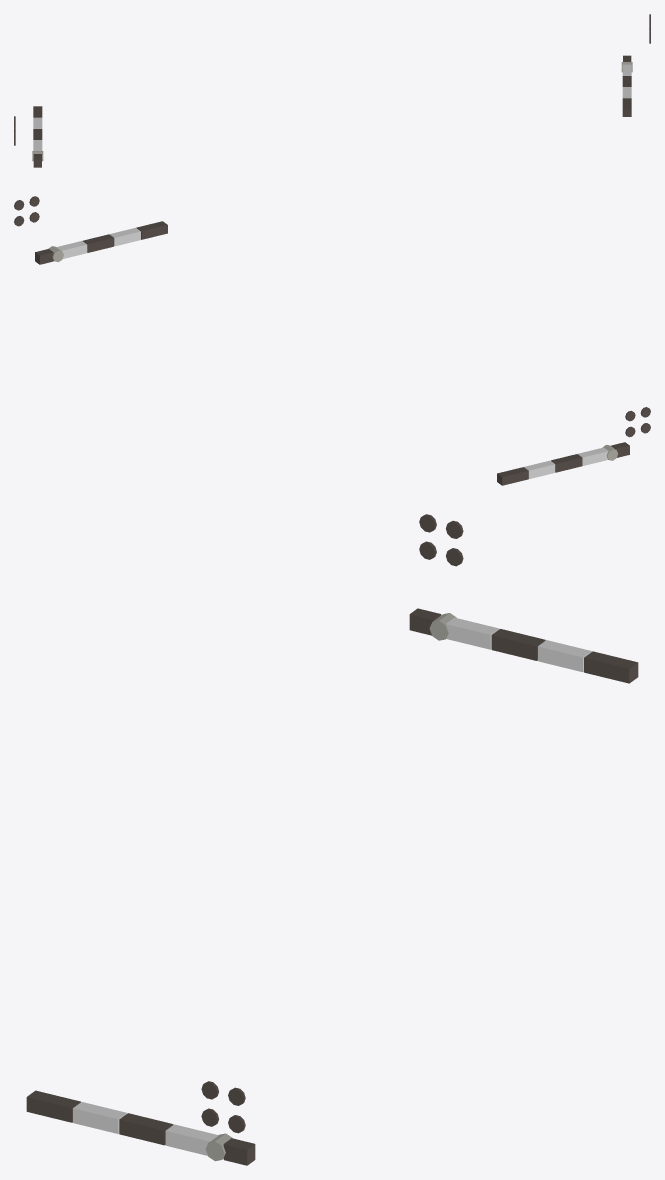
The model's file is SM_PasoNivel_30_v1_FocosDobles_LOD1.fbx.
3 renders of one model, top to bottom at view 1: azimuth 30°, elevation 25°; view 2: azimuth 150°, elevation 25°; view 3: azimuth 270°, elevation 25°, orthographic. The views are drawn at different scales.
Parts seen in each view (by area): view 1: Barrera_2, Barrera_1; view 2: Barrera_2, Barrera_1; view 3: Barrera_1, Barrera_2, Luces_A, Luces_B.
Part boxes in pixels (x1=…): Barrera_2: x1=32, y1=106, x2=43, y2=167; Barrera_1: x1=621, y1=55, x2=632, y2=116; Barrera_2: x1=497, y1=442, x2=629, y2=485; Barrera_1: x1=35, y1=221, x2=167, y2=264; Barrera_1: x1=26, y1=1090, x2=255, y2=1165; Barrera_2: x1=409, y1=608, x2=638, y2=683; Luces_A: x1=201, y1=514, x2=436, y2=1126; Luces_B: x1=228, y1=520, x2=463, y2=1133.
Size of what is drawn, in the model's own units: 24.99 by 1.91 by 11.16.
